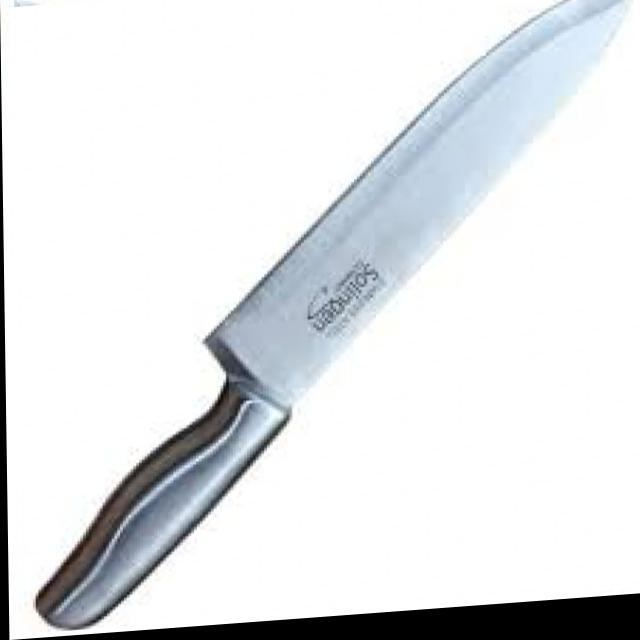knife: (32, 0, 640, 632)
